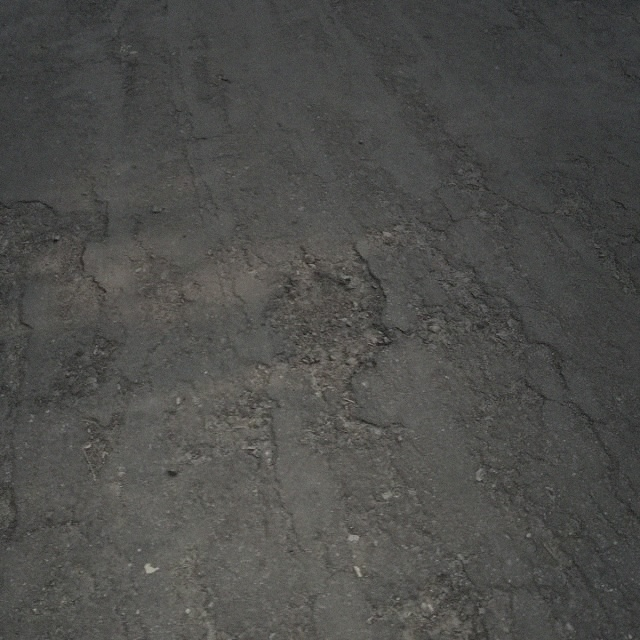pothole: (252, 254, 393, 392), (370, 574, 489, 639), (0, 191, 87, 276)
